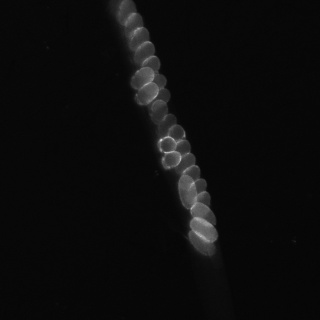embryo: (181, 178, 206, 209), (190, 217, 217, 242), (188, 230, 214, 255), (189, 191, 211, 218), (179, 175, 197, 208), (190, 202, 215, 224), (146, 88, 171, 110), (116, 0, 138, 25), (178, 165, 200, 189), (135, 82, 159, 104), (130, 67, 154, 89), (148, 99, 168, 125), (129, 27, 149, 53), (123, 12, 143, 38), (133, 41, 154, 65), (143, 74, 167, 94), (156, 114, 177, 135), (175, 152, 195, 174), (141, 56, 161, 78), (175, 138, 190, 161), (162, 151, 180, 168), (168, 124, 185, 142), (159, 136, 175, 152)
